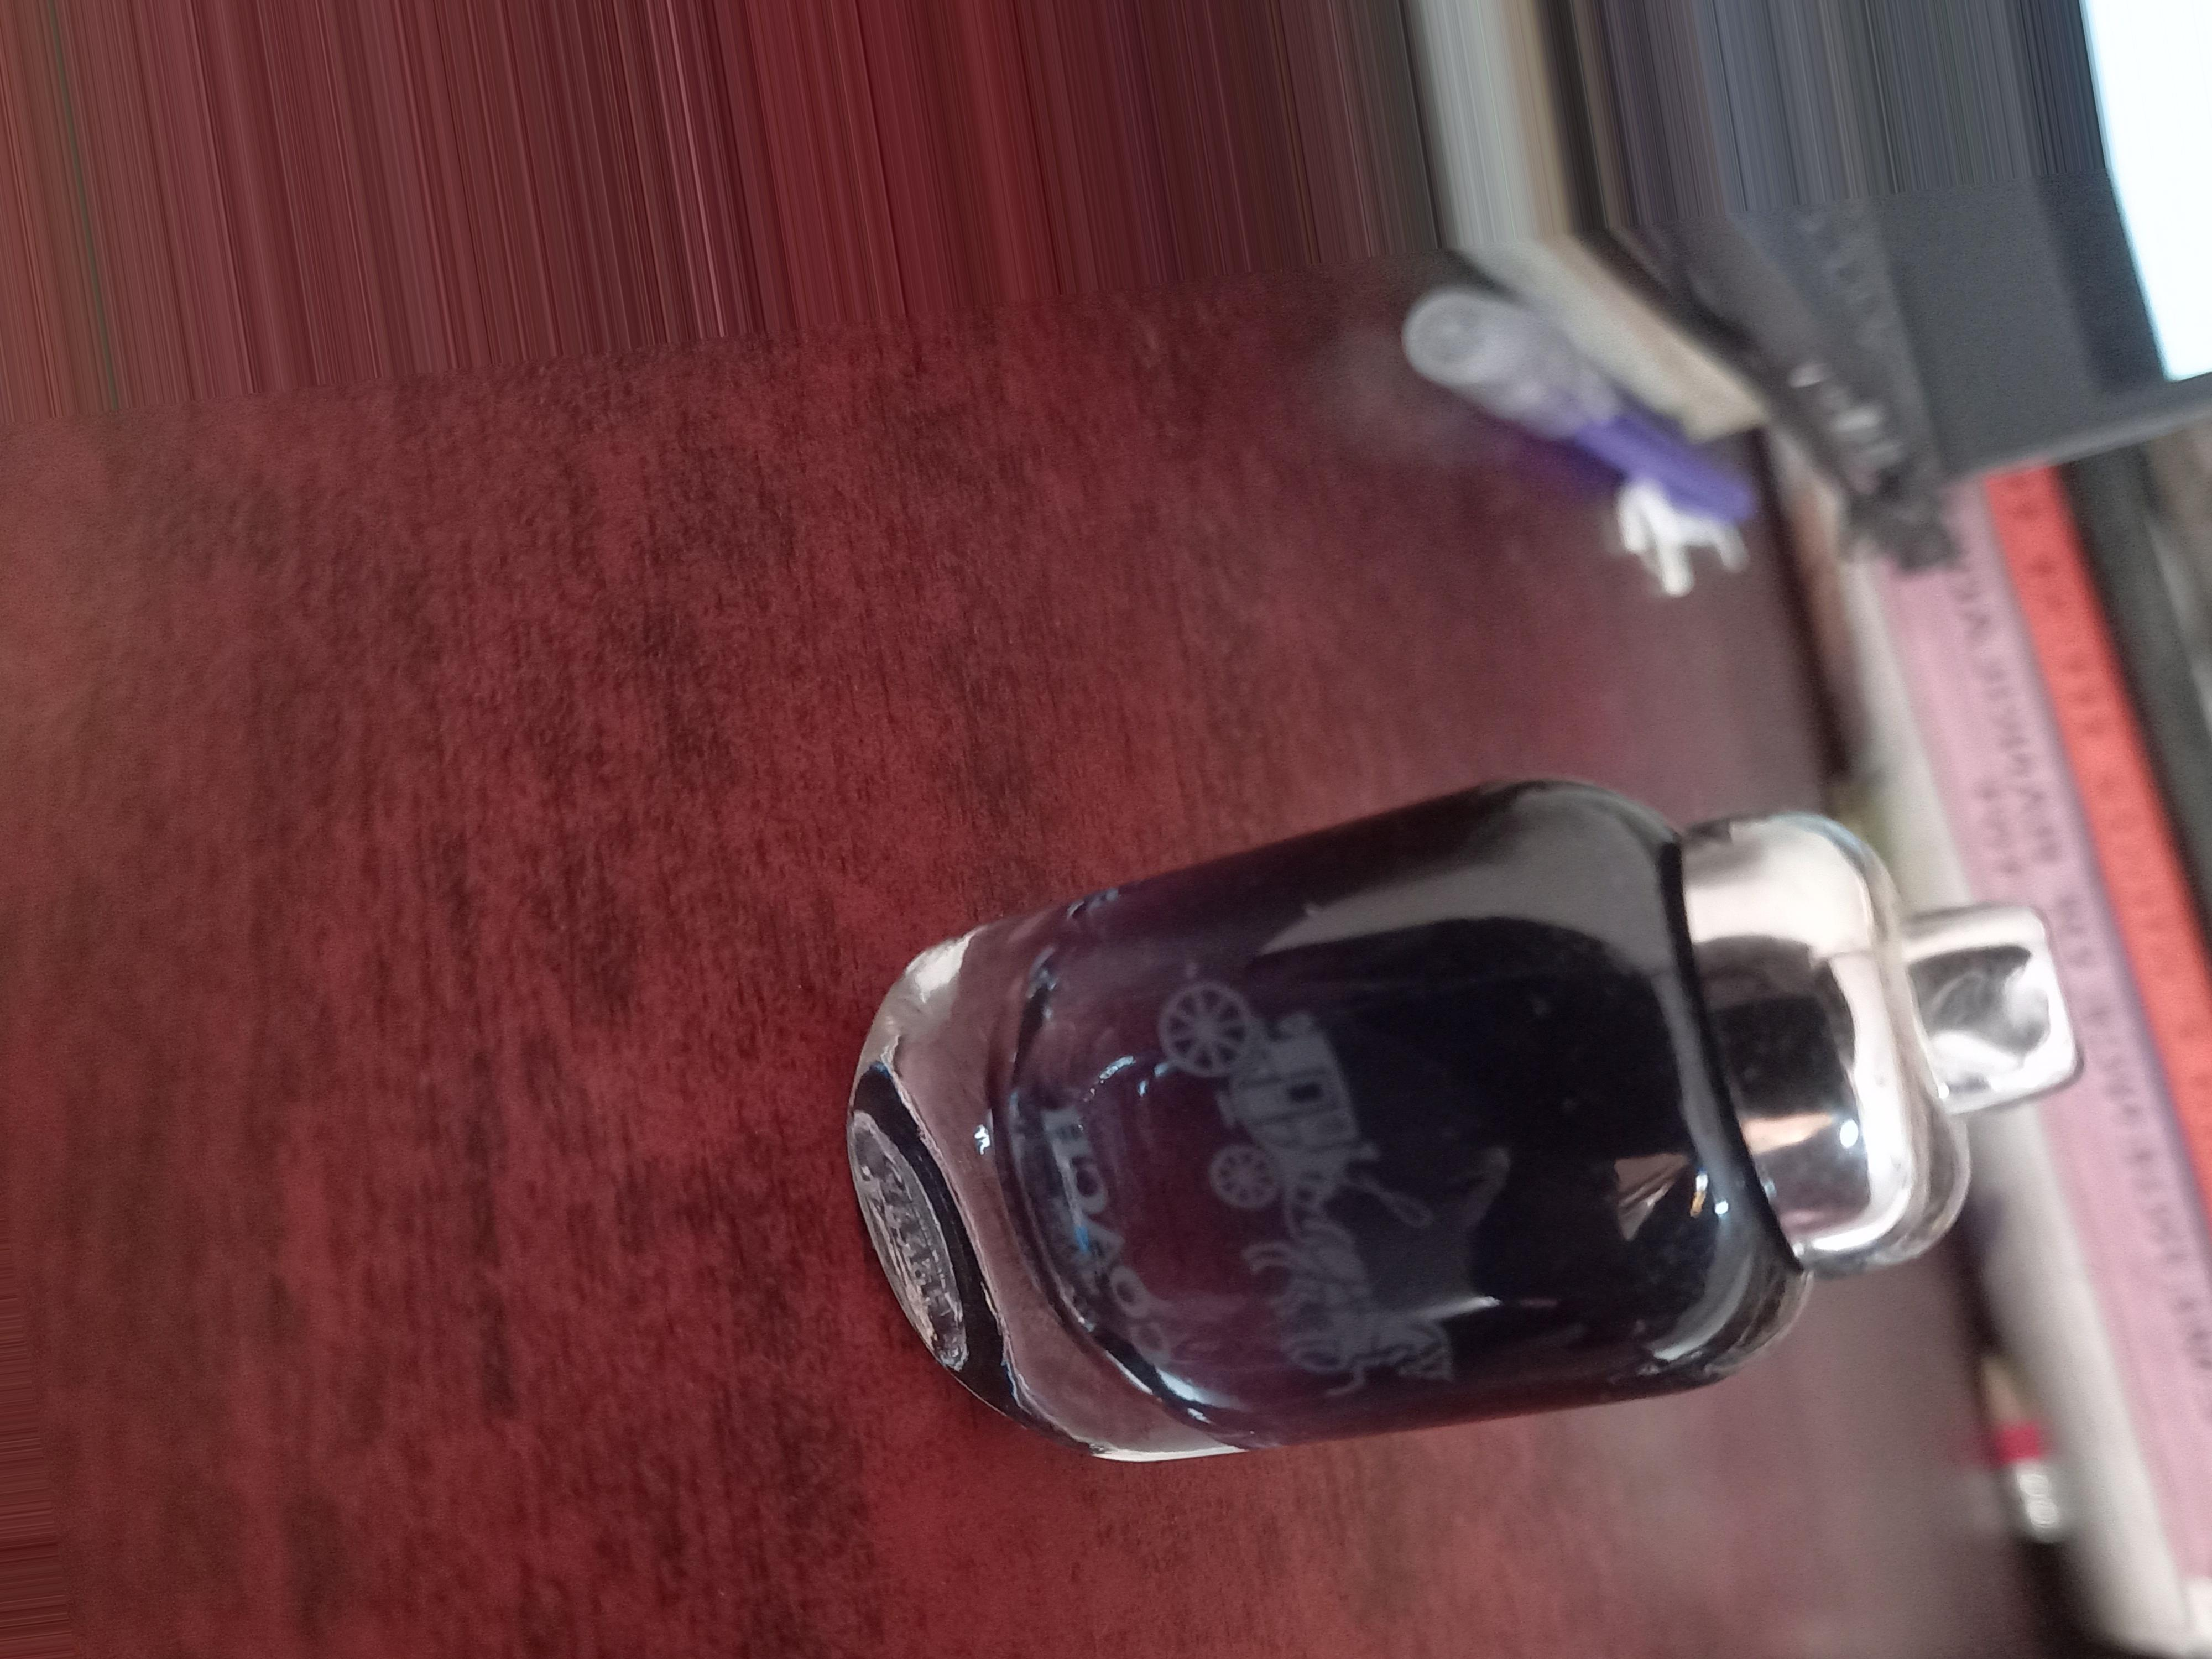perfume: (904, 708, 1980, 1473)
